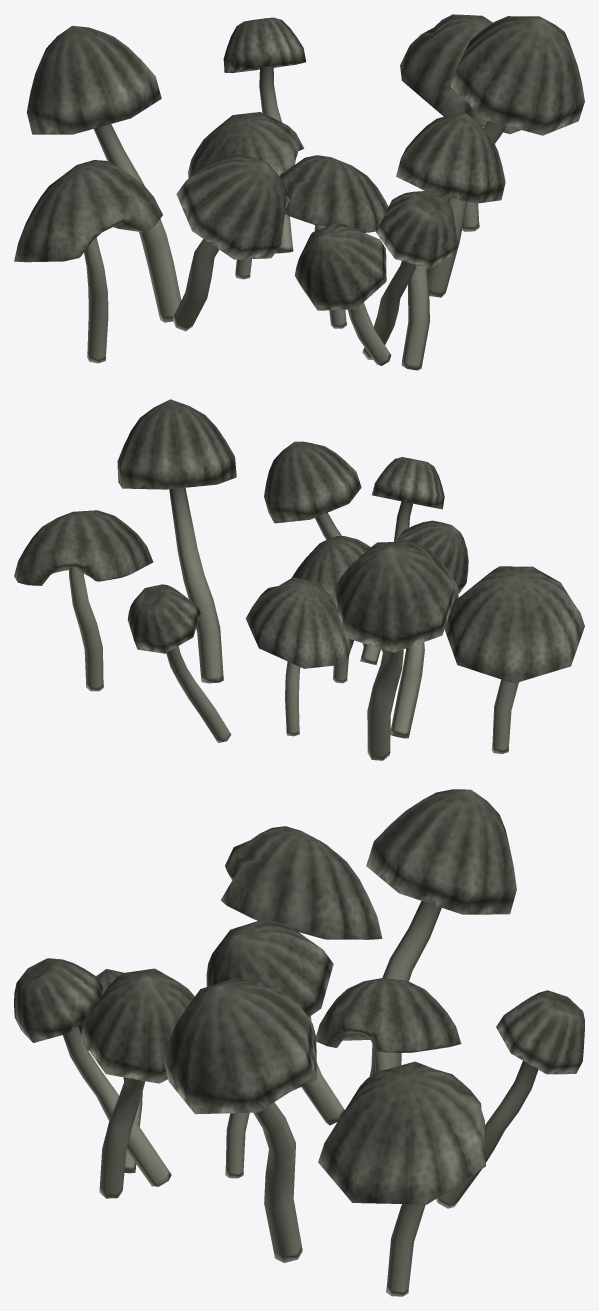
File: cave_mushrooms_03.dae
3 renders of one model, top to bottom at view 1: azimuth 30°, elevation 25°; view 2: azimuth 150°, elevation 25°; view 3: azimuth 270°, elevation 25°, orthographic. The views are drawn at different scales.
Visible parts, largest first — view 1: bunch_3; view 2: bunch_3; view 3: bunch_3.
Boxes of the visible parts, x1=… form: bunch_3: x1=14, y1=14, x2=584, y2=370; bunch_3: x1=14, y1=399, x2=584, y2=760; bunch_3: x1=14, y1=789, x2=584, y2=1296.
Size of the model in its own units: 0.5893 by 0.2728 by 0.4507.
